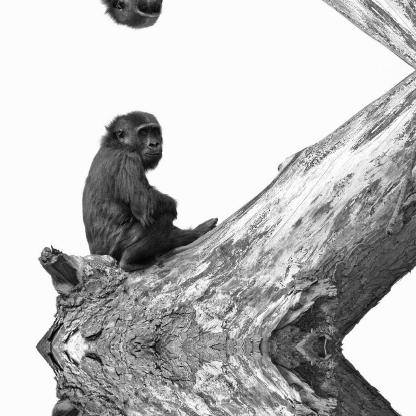Monkey: (72, 107, 214, 282)
